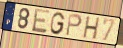7: (101, 17, 117, 43)
8: (17, 8, 31, 30)
E: (31, 7, 51, 34)
G: (49, 12, 66, 36)
H: (81, 16, 101, 41)
P: (65, 13, 83, 38)
